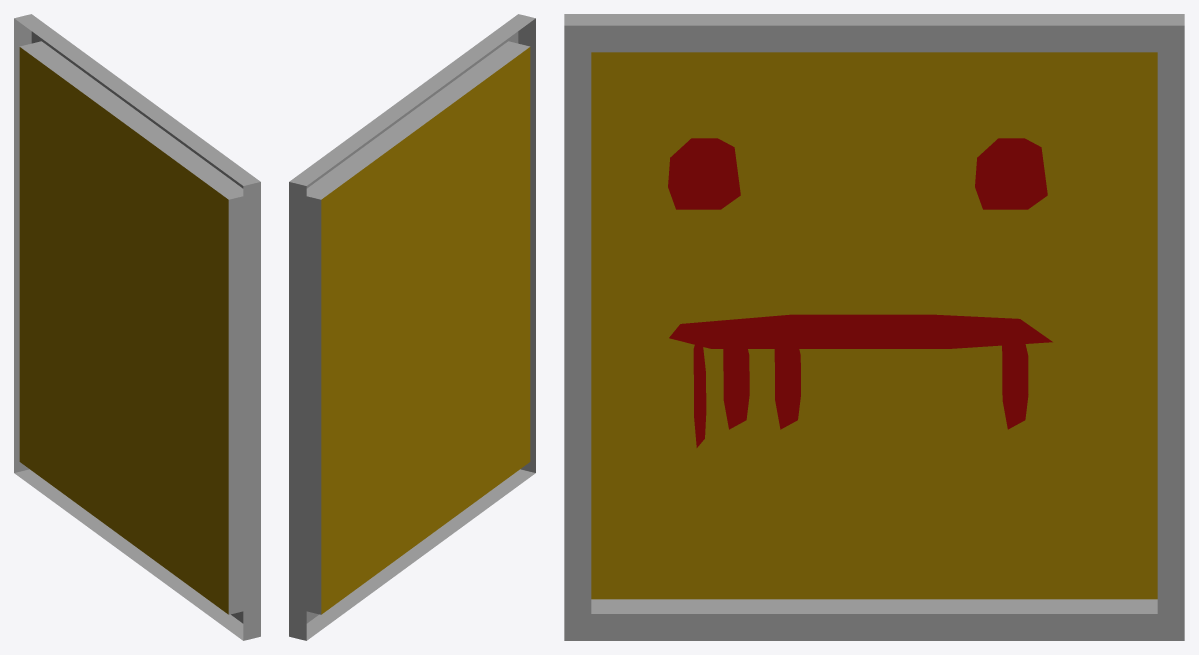
The model's file is EN_P_L3Painting_01_19G4_01_19.fbx.
3 renders of one model, left to right at view 1: azimuth 30°, elevation 25°; view 2: azimuth 150°, elevation 25°; view 3: azimuth 270°, elevation 25°, orthographic. The views are drawn at different scales.
Visible parts, largest first — view 1: Painting; view 2: Painting; view 3: Painting.
Part boxes in pixels (bbox=[...]): Painting: bbox=[14, 14, 260, 640]; Painting: bbox=[289, 14, 535, 640]; Painting: bbox=[564, 14, 1184, 640].
Size of the model in its own units: 7.78 by 153 by 140.
